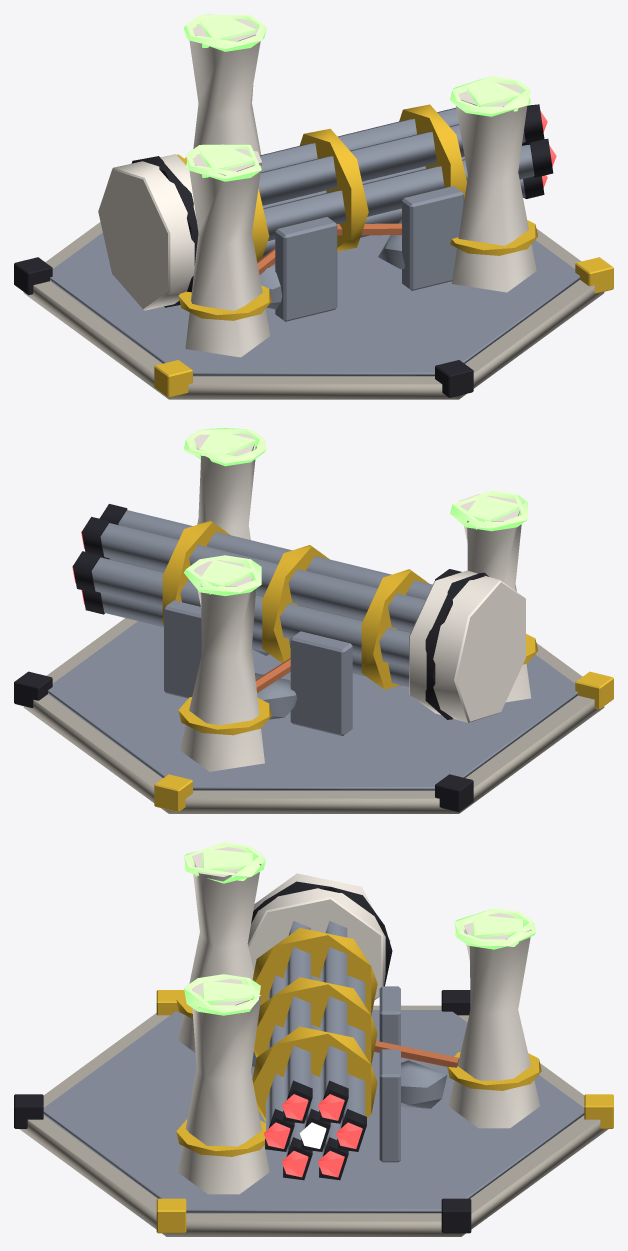
The model's file is cracker.glb.
3 views of the same model, one above another, from view 1: azimuth 30°, elevation 25°; view 2: azimuth 150°, elevation 25°; view 3: azimuth 270°, elevation 25° (orthographic).
Visible parts, largest first — view 1: cracker; view 2: cracker; view 3: cracker.
Boxes of the visible parts, box(x1,y1,x2,y2) form: cracker: box(14, 14, 613, 399); cracker: box(14, 428, 613, 813); cracker: box(14, 842, 613, 1236).
Bounding box in the file's own units: 247 × 106 × 283.
1 material, 1 textured.
